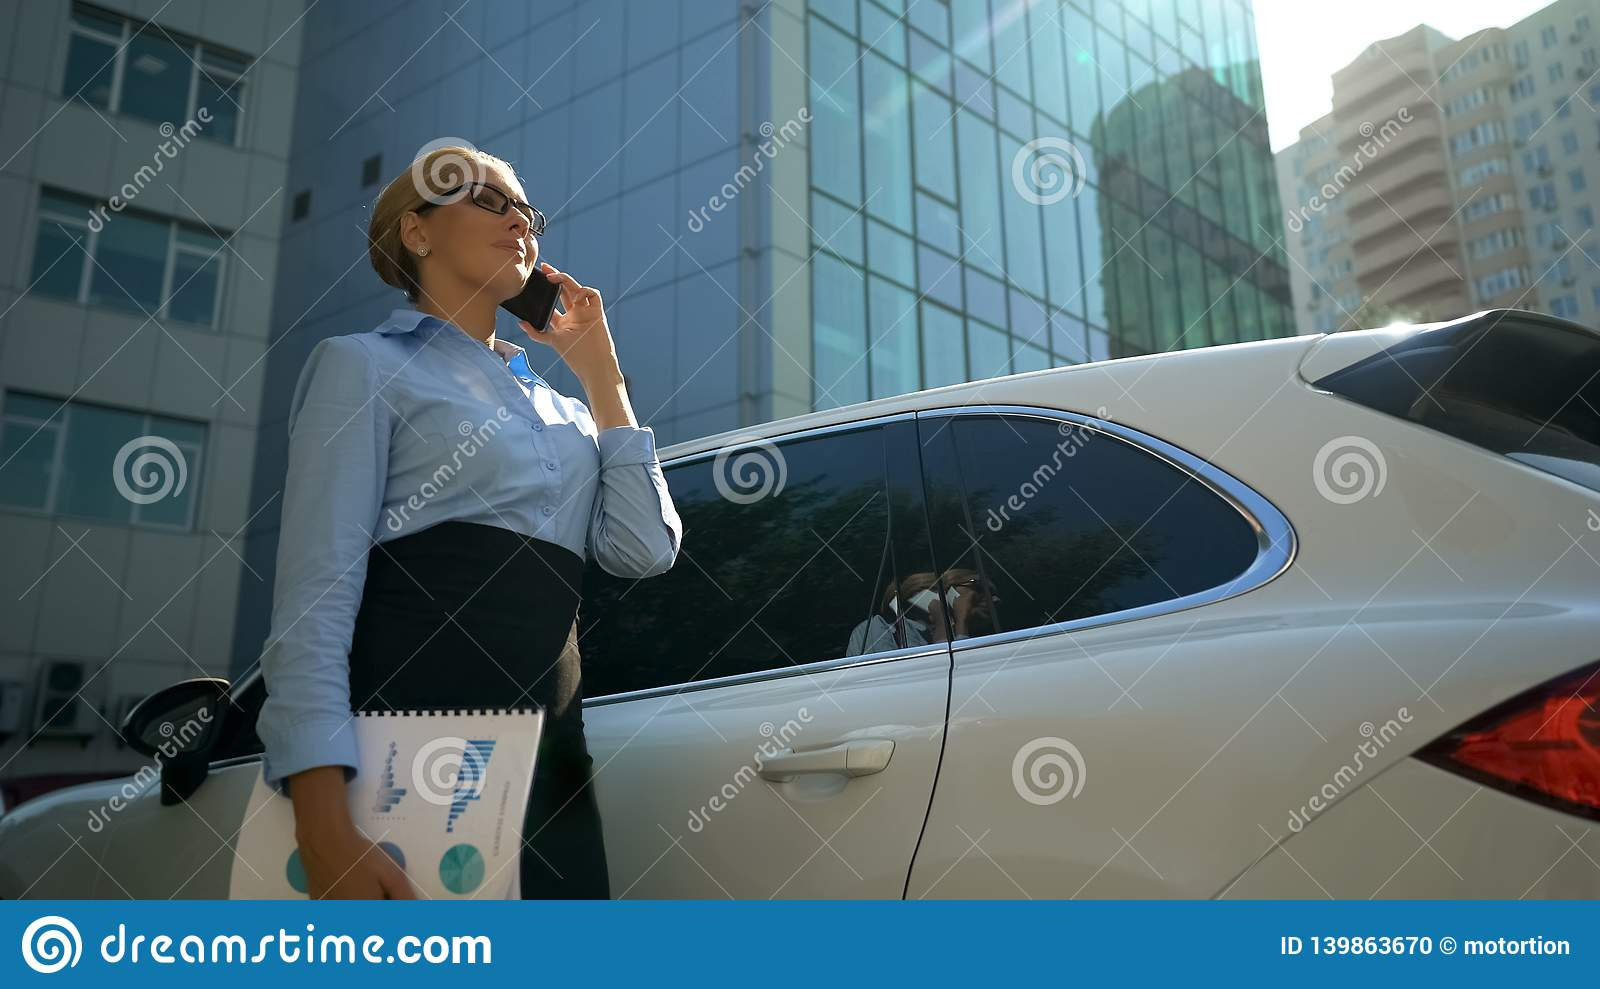phone: (501, 268, 571, 337)
talk: (459, 177, 617, 380)
